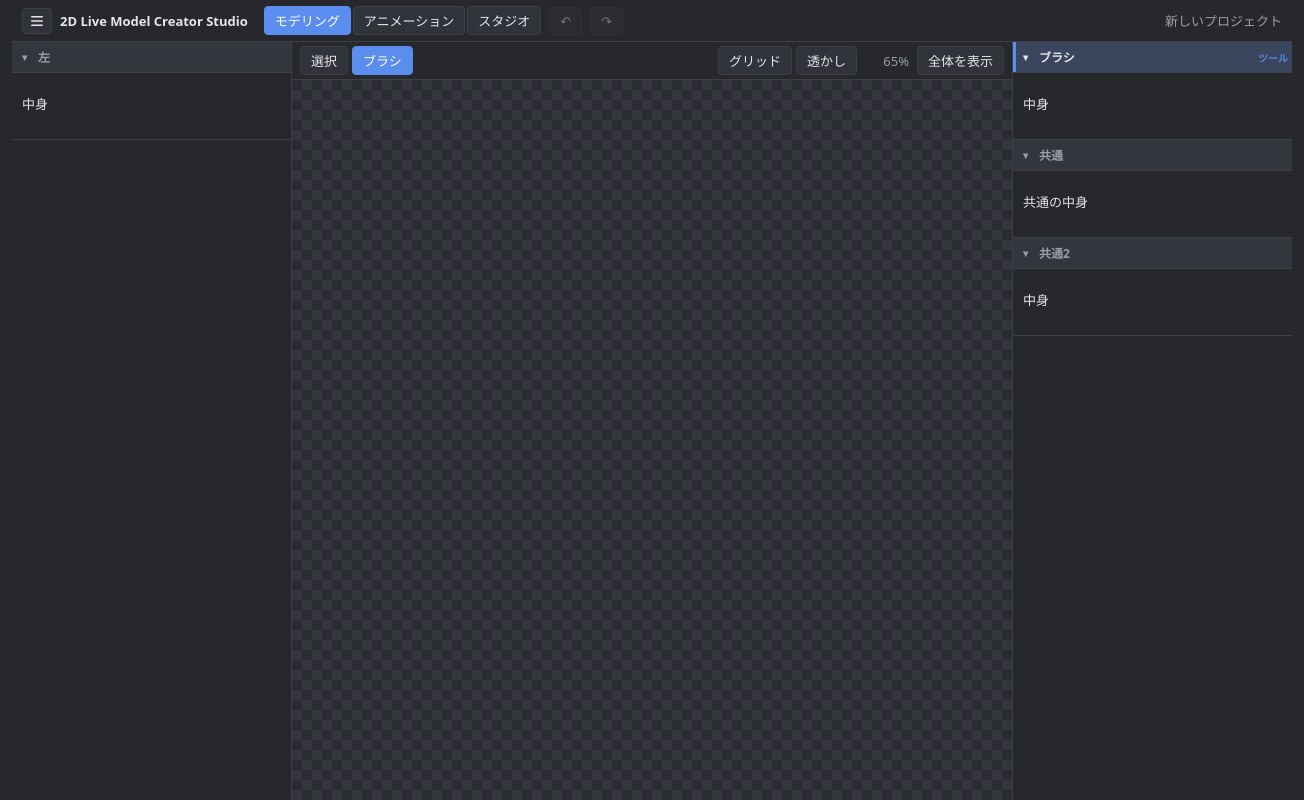
Test: 右の列のパネルの高さ（I-064） › I-087: 左・右・オブジェクトの開いたパネルに境目を出し、たたんだパネルには出さない
This screenshot has width=1304, height=800.
What coordinates should you click on to do the following:
click the button "▾ 共通2"
I would click on:
 (1054, 254)
Its box is [1013, 238, 1292, 268].
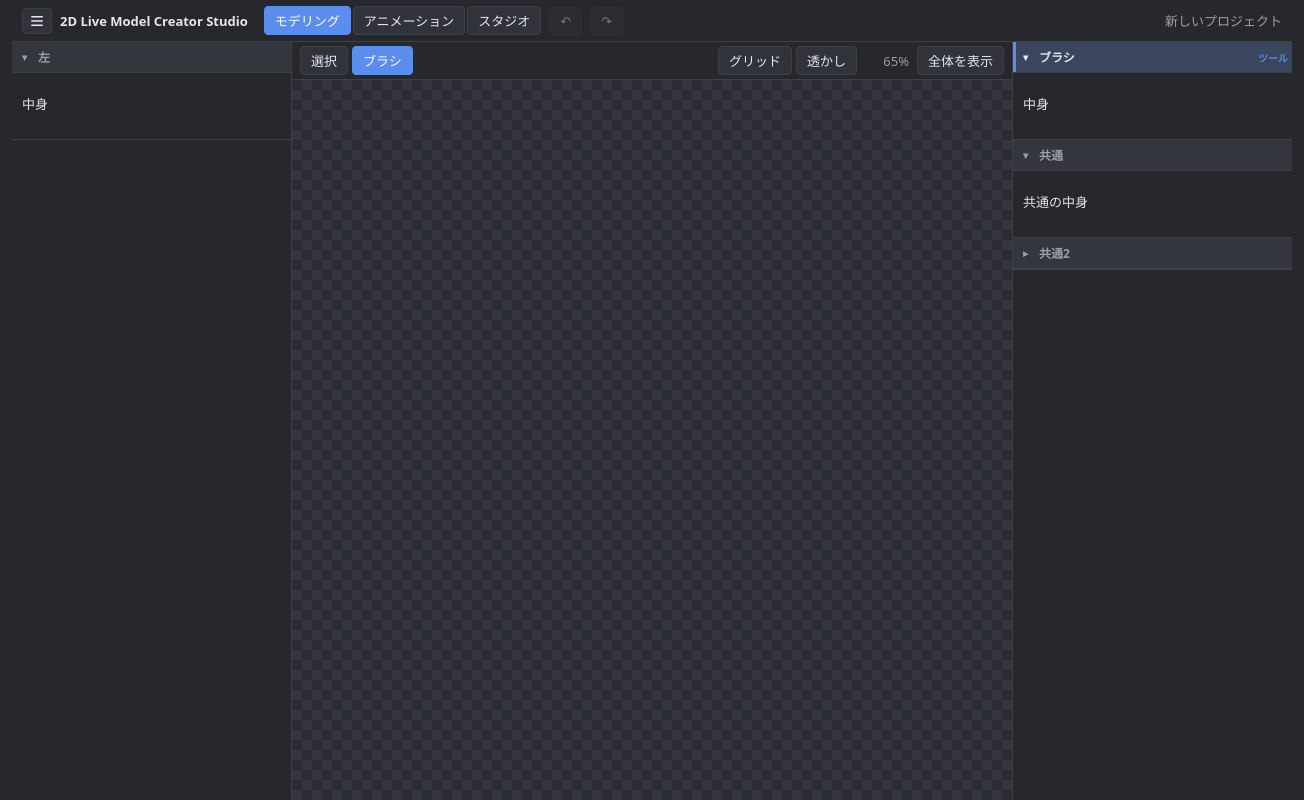
Check: the element named "「共通」の高さ" is shown, box [1013, 232, 1292, 238]
Check: the element "「共通2」の高さ" is gone
